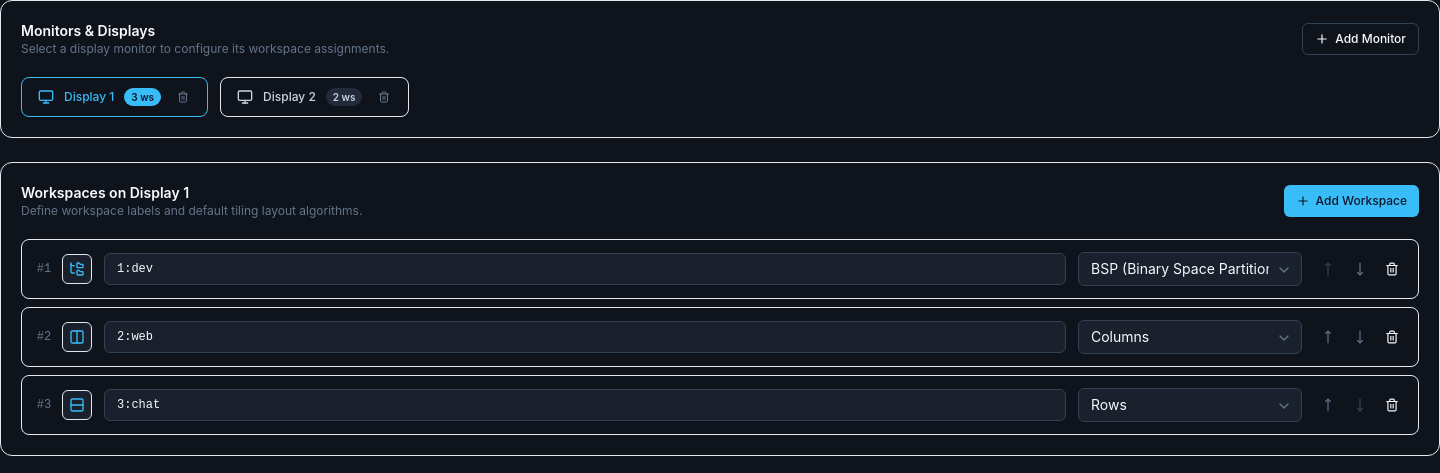
Test: WorkspaceListEditor › switches active monitor on click
Click the text "Display 2". click: [289, 97]
box: x1=263 y1=89 x2=316 y2=105
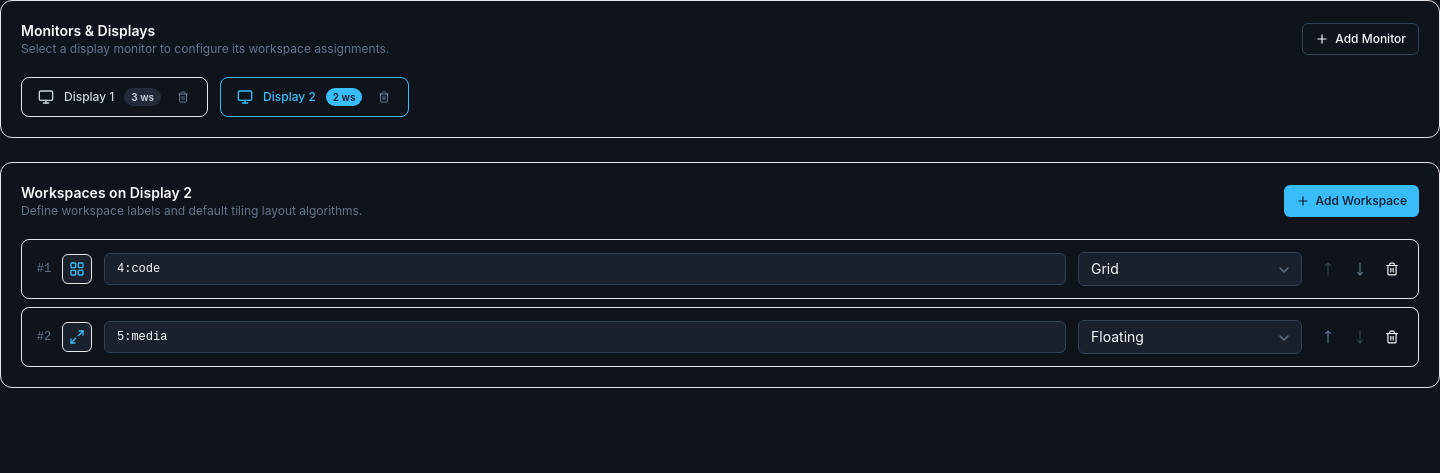
expect the 1st field showing "4:code" is shown: met, box x1=104 y1=253 x2=1066 y2=285
expect the 2nd field showing "5:media" is shown: met, box x1=104 y1=321 x2=1066 y2=353
